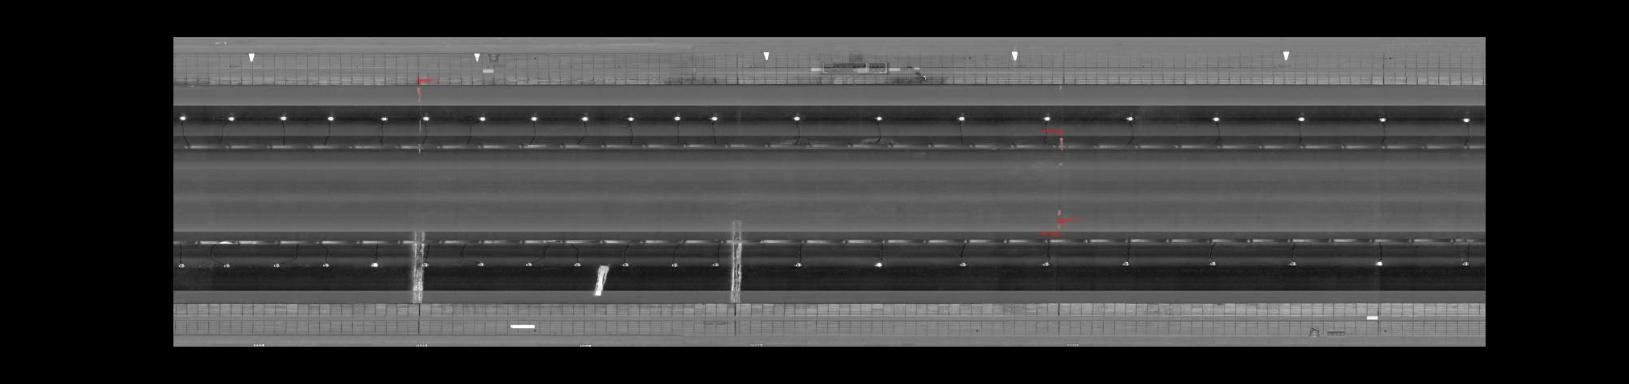light: (787, 113, 808, 124), (870, 258, 888, 270), (954, 258, 971, 270), (1116, 258, 1134, 269), (1457, 257, 1473, 269), (1284, 258, 1301, 270), (870, 112, 886, 124), (520, 258, 537, 270), (1037, 113, 1054, 124), (176, 258, 189, 272), (1208, 113, 1224, 125), (953, 113, 969, 124), (474, 113, 490, 124), (577, 113, 593, 124), (1372, 257, 1387, 269), (224, 112, 239, 124), (790, 260, 807, 270), (367, 258, 382, 269), (219, 258, 233, 270), (1122, 113, 1137, 124), (176, 113, 190, 124), (323, 113, 338, 124), (527, 113, 541, 124), (1459, 115, 1474, 125), (1293, 114, 1309, 124), (1204, 258, 1220, 268), (1038, 260, 1053, 270), (275, 113, 291, 122), (670, 113, 684, 124), (624, 113, 638, 124), (1376, 115, 1392, 124), (474, 260, 488, 270), (318, 259, 332, 269), (419, 112, 433, 121), (569, 260, 585, 269), (377, 113, 390, 124), (709, 260, 722, 270), (668, 260, 682, 270), (706, 113, 721, 121), (618, 259, 630, 270), (270, 260, 282, 270), (420, 260, 432, 269)
